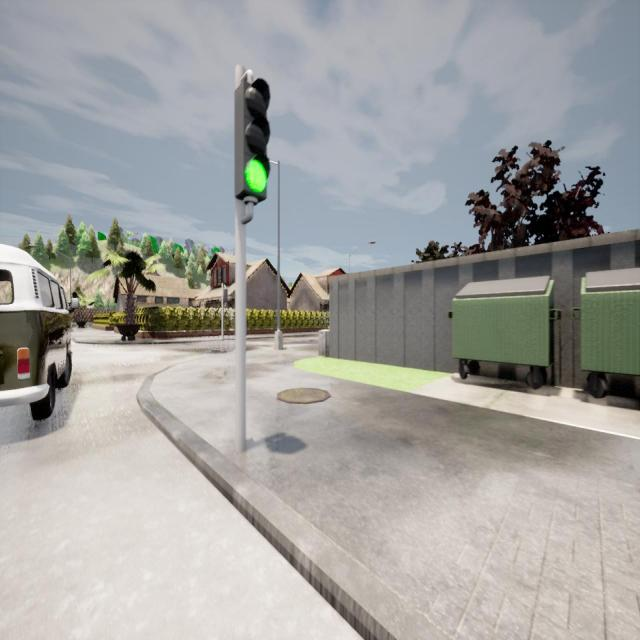Vehicle: (0, 245, 78, 419)
traffic_light: (234, 76, 271, 200), (223, 289, 228, 303)
